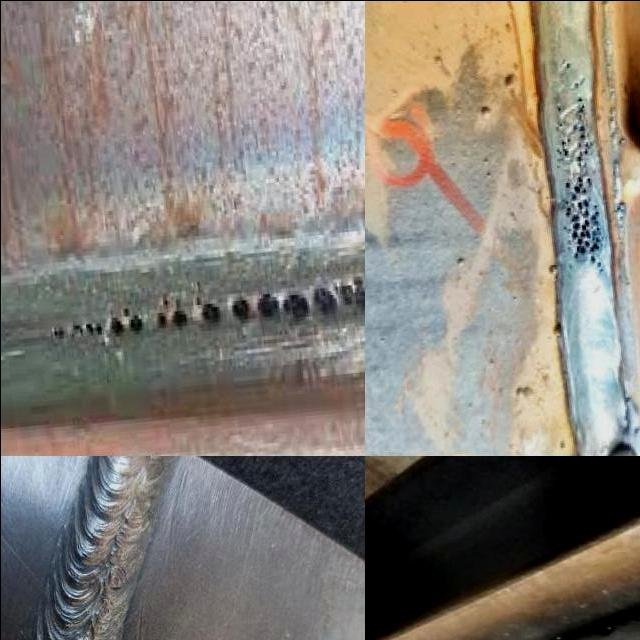defect: (152, 272, 364, 336), (551, 56, 594, 171), (560, 170, 606, 276), (44, 303, 147, 343), (108, 564, 125, 589), (94, 598, 111, 622), (596, 621, 614, 636), (545, 633, 566, 640)
